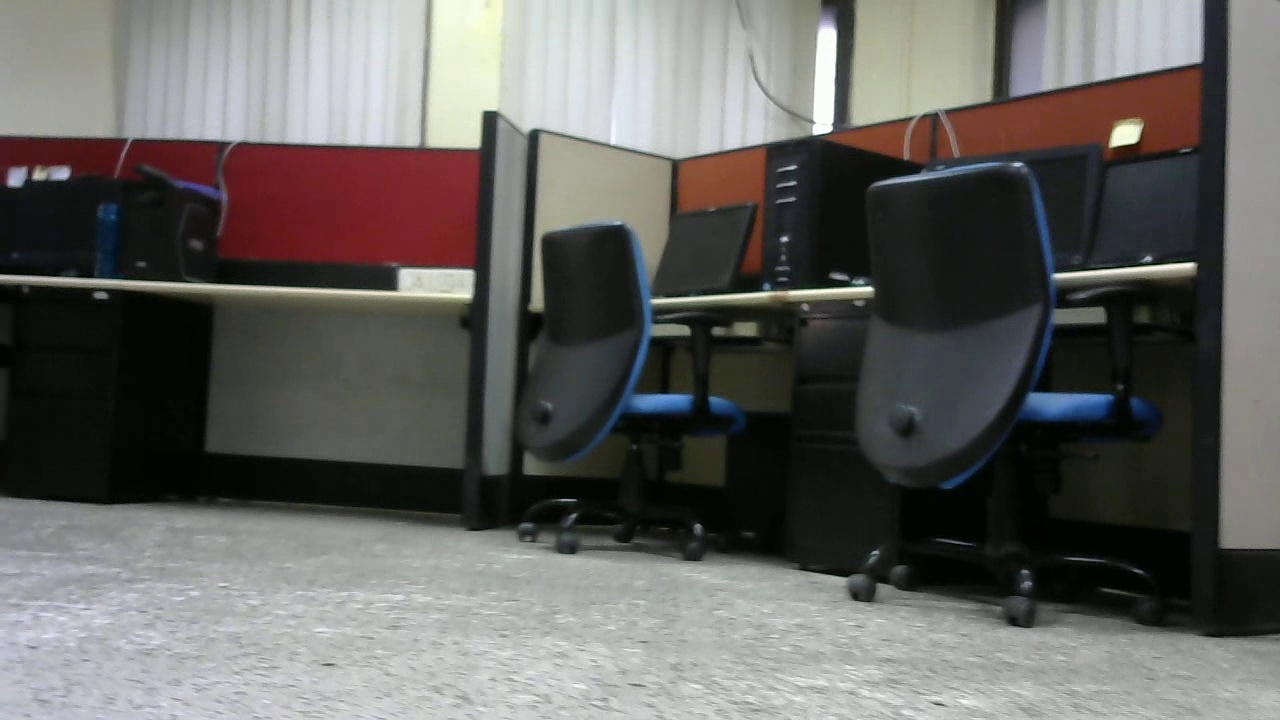chair: (843, 157, 1165, 624), (511, 219, 753, 568)
